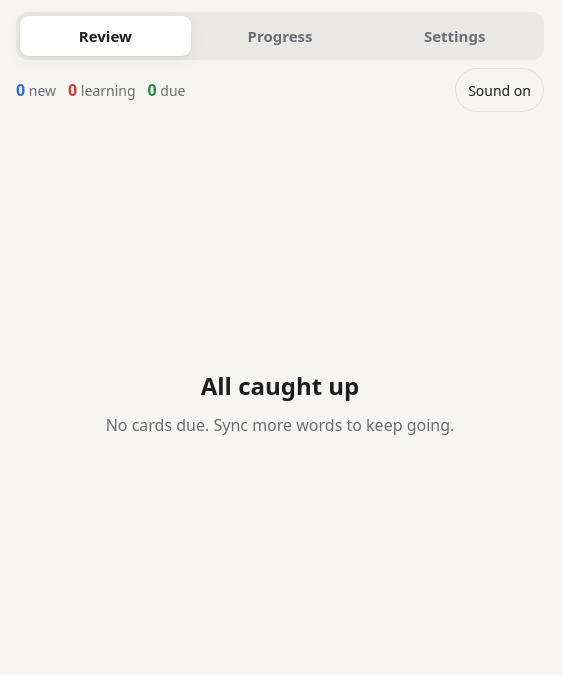
it: App navigation › switches screens with the tabs
Check: the text "All caught up" is shown, box [201,368,359,402]
Click the link "Progress": (280, 36) [248,26,312,46]
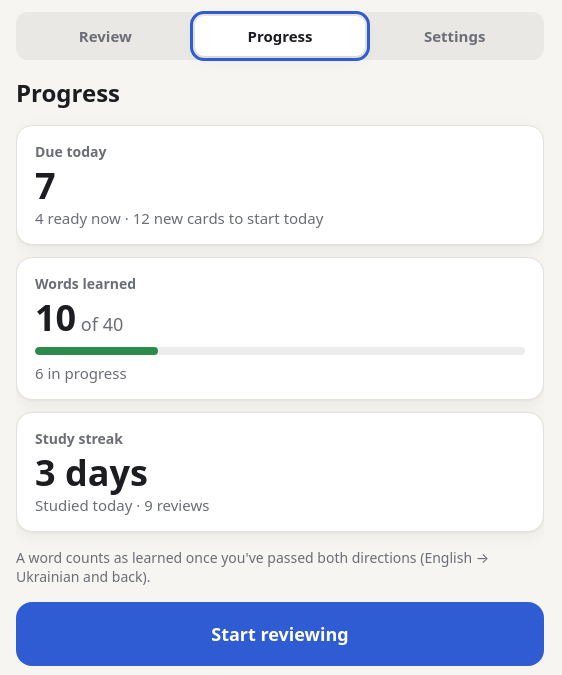
Check: the heading "Progress" is shown, box [16,76,120,109]
Click the link "Settings": (455, 36) [424,26,485,46]
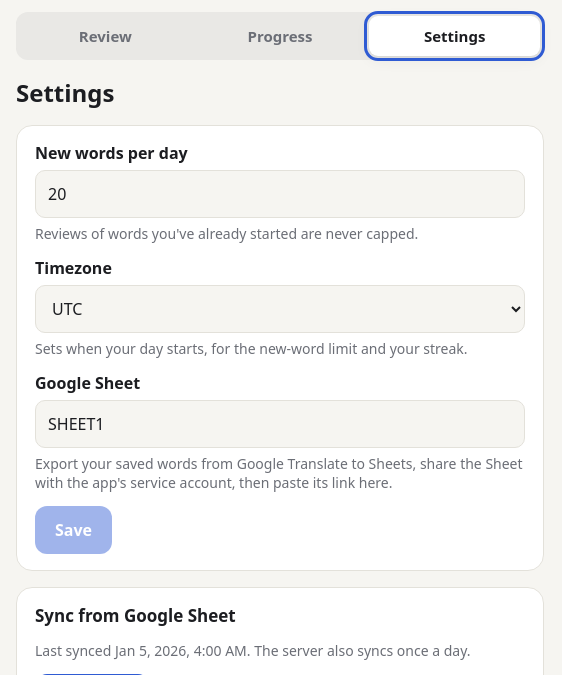
Check: the heading "Settings" is shown, box [16,76,114,109]
